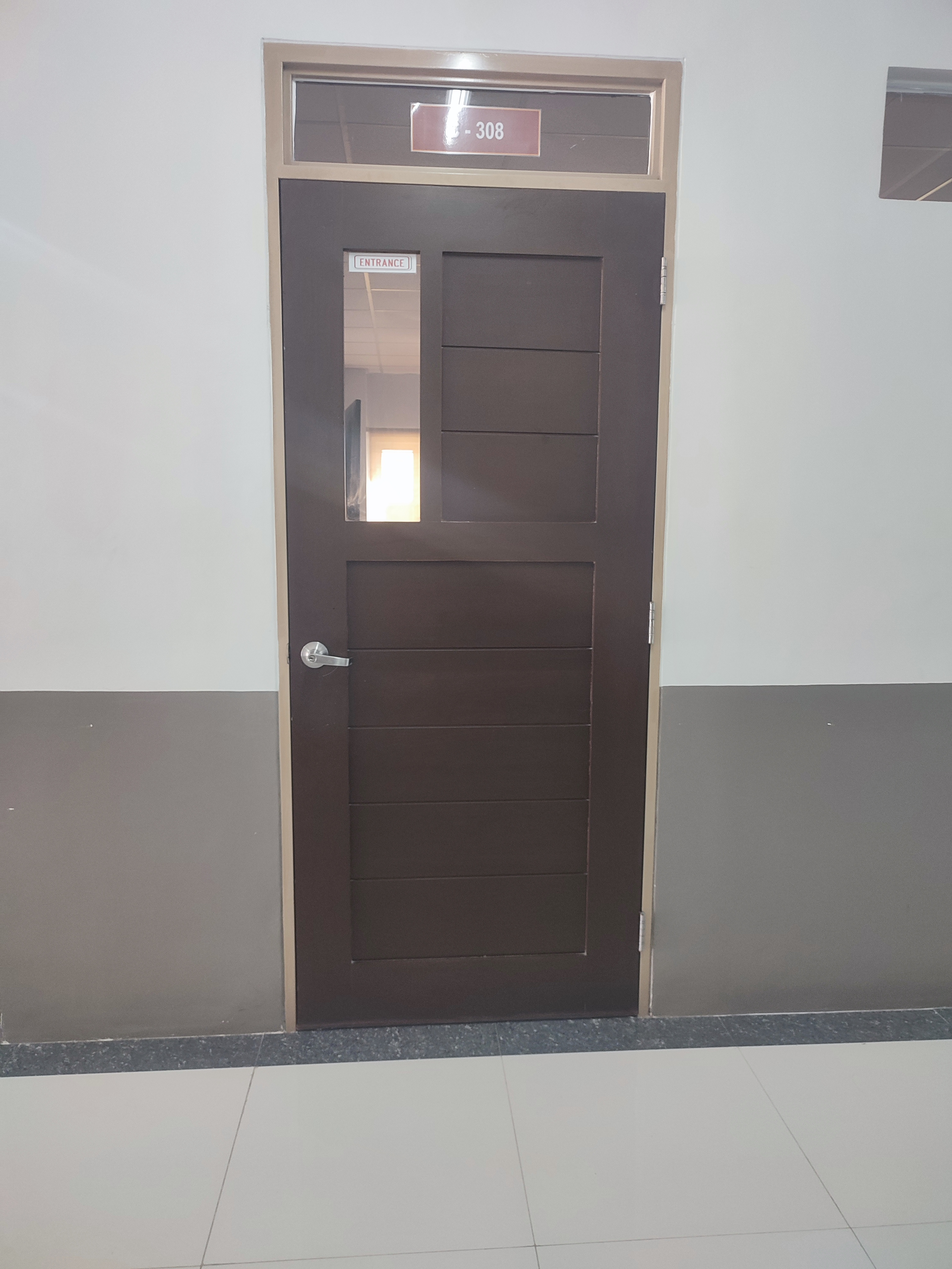door: (263, 43, 684, 1041)
